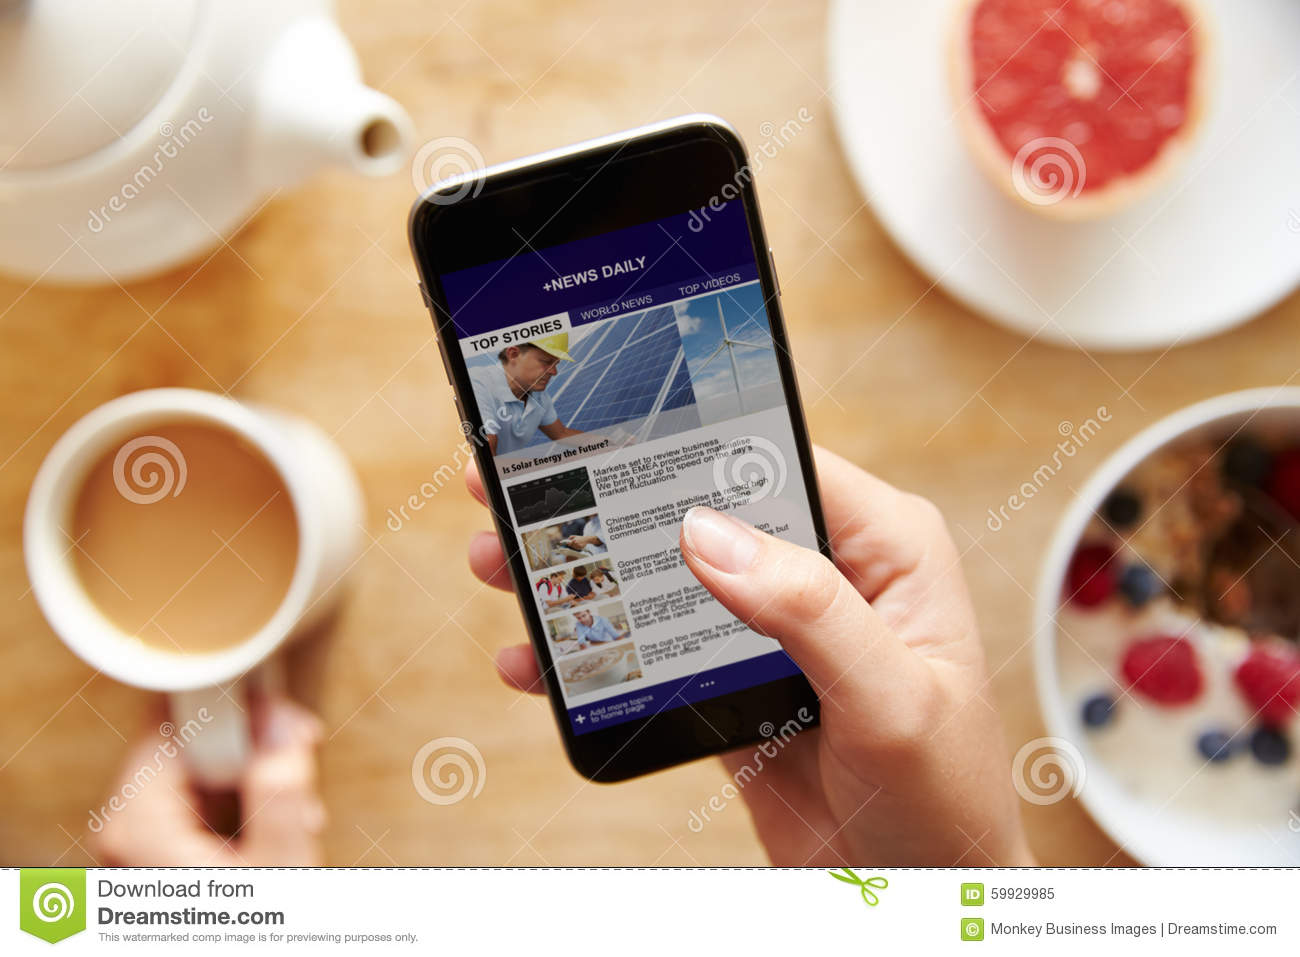smartphone: (406, 116, 834, 787)
